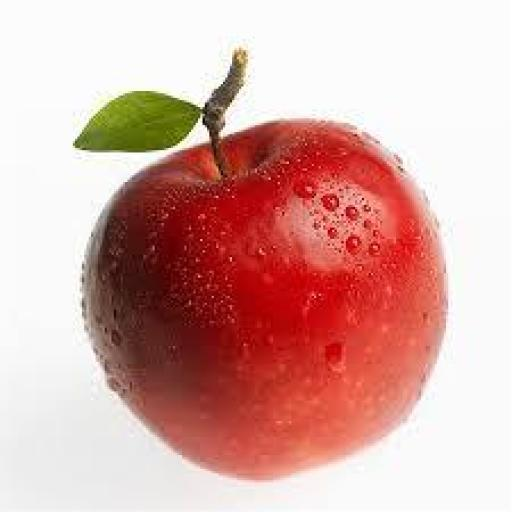apple: (85, 121, 446, 477)
